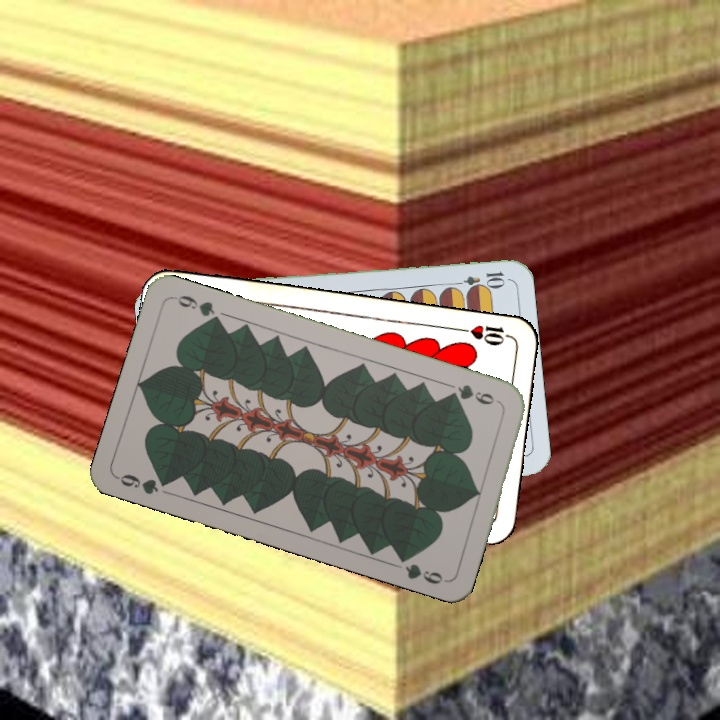E10: (448, 267, 508, 290)
G9: (113, 470, 174, 497), (444, 380, 497, 408)
H10: (455, 320, 514, 348)
